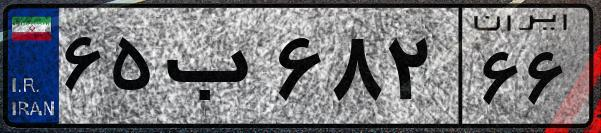2: (385, 28, 445, 110)
5: (110, 28, 158, 98)
6: (270, 28, 330, 110), (57, 26, 110, 100), (475, 38, 525, 113), (525, 38, 570, 115)
8: (330, 28, 385, 110)
ب: (158, 20, 270, 120)
